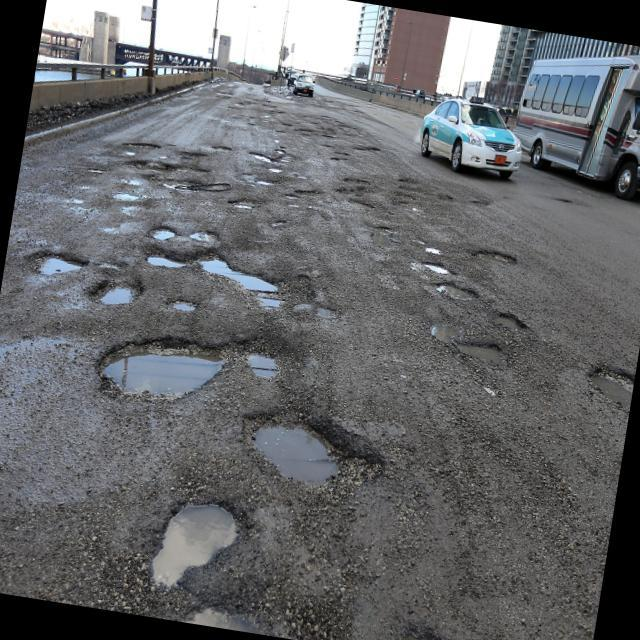Pothole: (92, 318, 235, 418), (236, 398, 364, 506), (150, 481, 237, 596), (196, 252, 291, 306), (431, 316, 505, 374), (581, 350, 638, 404), (27, 239, 82, 282), (96, 268, 137, 314), (142, 241, 190, 276), (469, 244, 512, 270), (148, 218, 182, 244)
